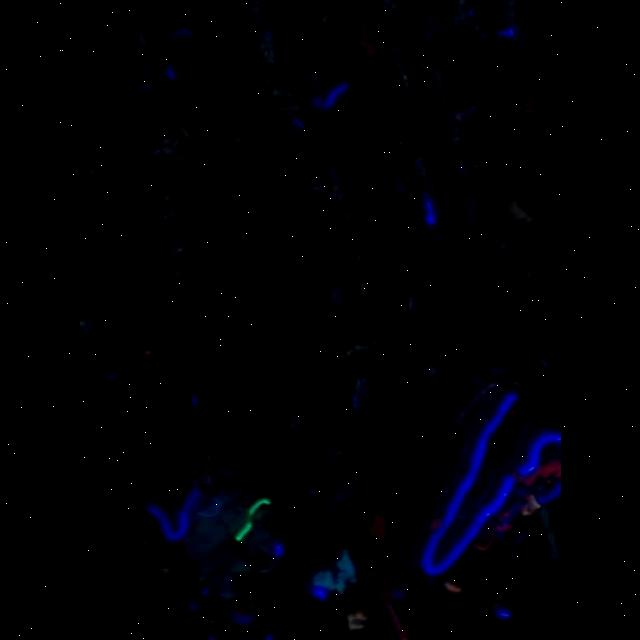Fibre: (506, 195, 533, 223)
